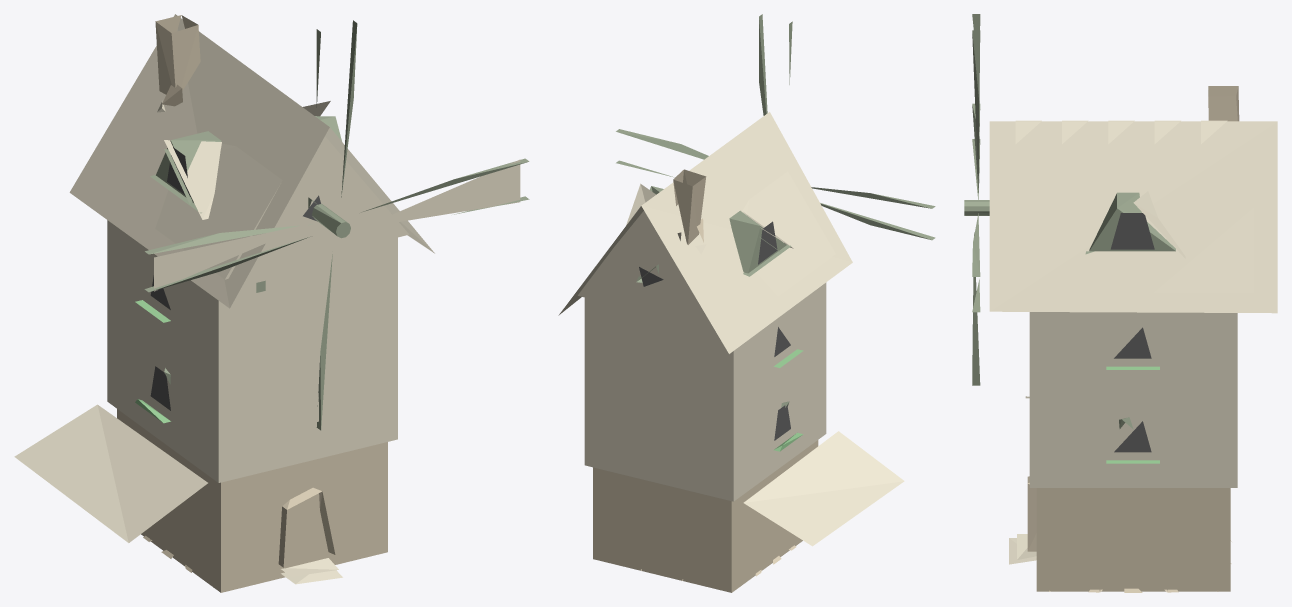
The model's file is mill-DR_YzbG8.glb.
The picture shows the model from 3 angles, left to right: view 1: azimuth 30°, elevation 25°; view 2: azimuth 150°, elevation 25°; view 3: azimuth 270°, elevation 25°; orthographic projection. The views are drawn at different scales.
Parts seen in each view (by area): view 1: Mill, Mill_Blades; view 2: Mill, Mill_Blades; view 3: Mill, Mill_Blades.
Boxes of the visible parts, x1,y1,x2,y2 form: Mill: [14, 14, 434, 592]; Mill_Blades: [144, 20, 529, 430]; Mill: [558, 112, 904, 592]; Mill_Blades: [616, 14, 935, 240]; Mill: [989, 86, 1277, 592]; Mill_Blades: [964, 14, 989, 385].
Bounding box in the file's own units: 1.4 × 2 × 1.07.
